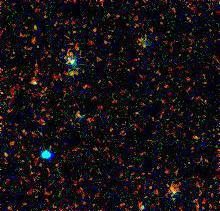star: (16, 69, 46, 99)
